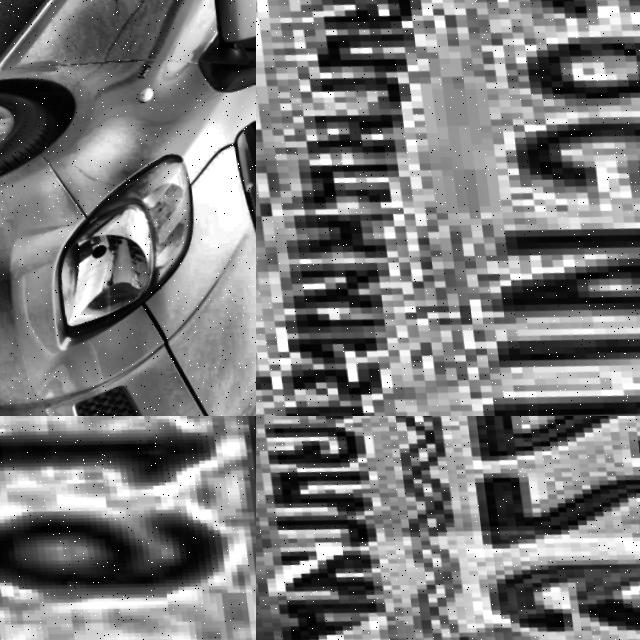license-plate: (256, 0, 640, 416), (256, 416, 640, 640), (0, 416, 256, 640)
